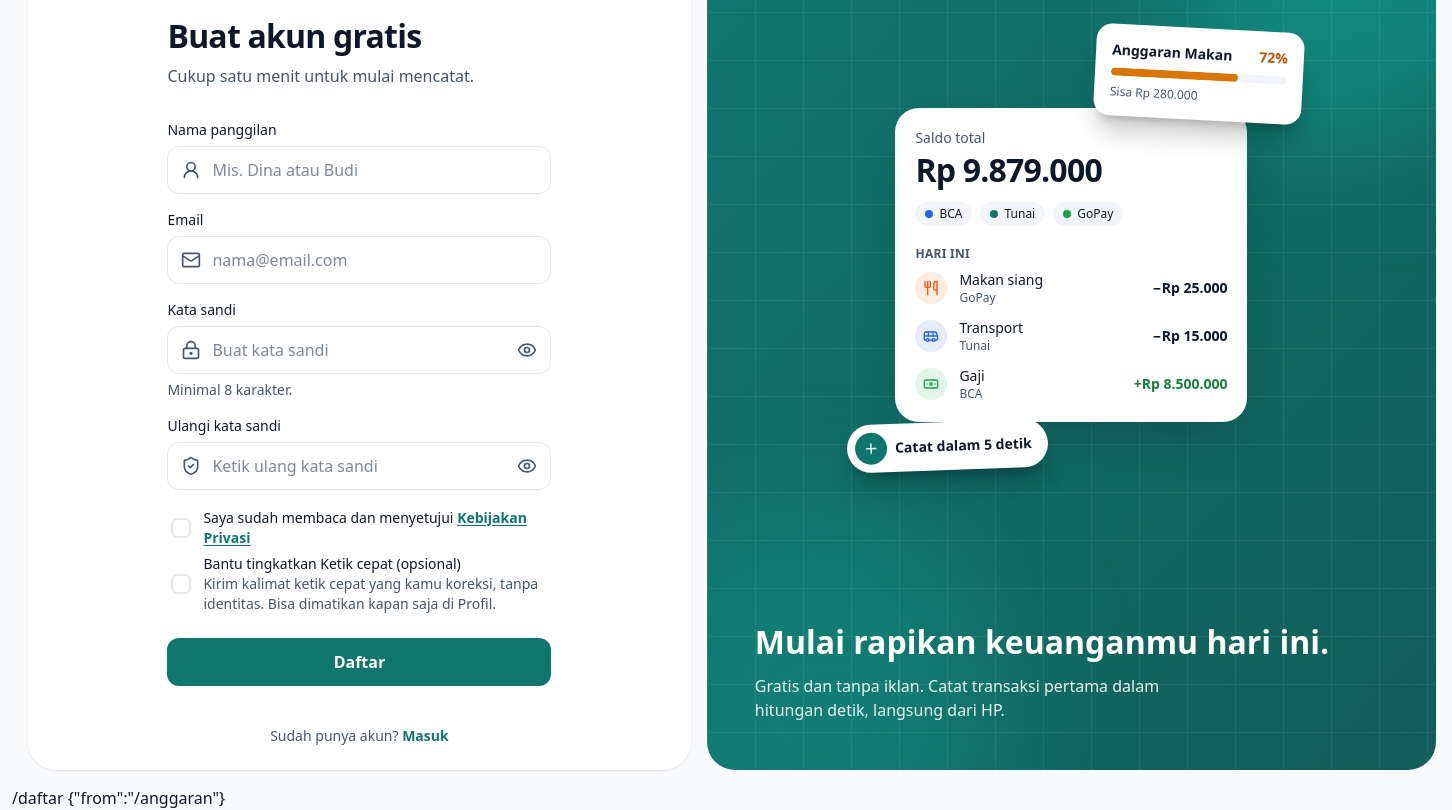
it: AuthPage › tujuan setelah masuk (state.from) ikut terbawa saat berpindah
The width and height of the screenshot is (1452, 810).
(page scrolled)
Click the link "Masuk": (425, 736) [402,726,449,745]
(page scrolled)
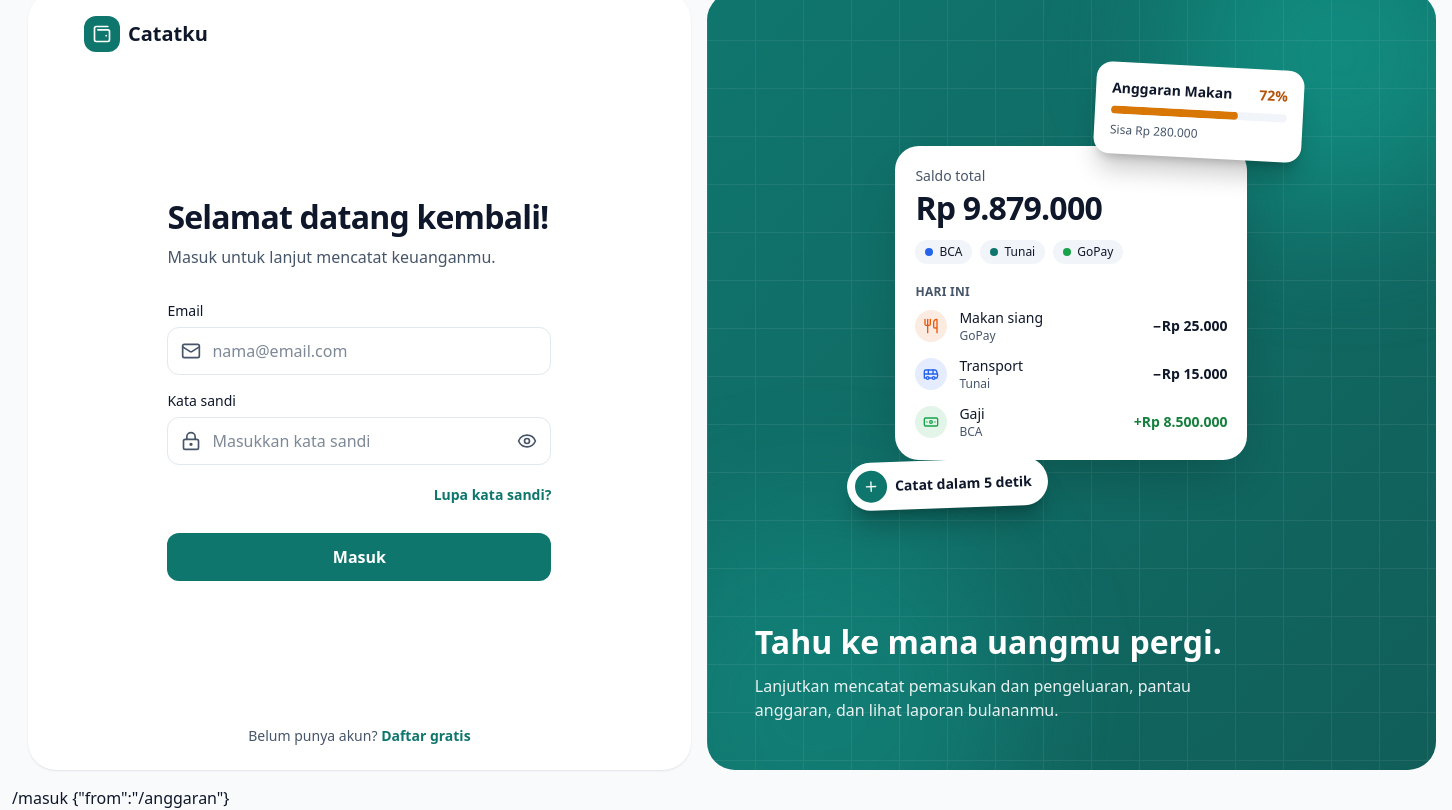
Now the text with test id "location" reads "/masuk {\"from\":\"/anggaran\"}", box [12,787,230,809]
